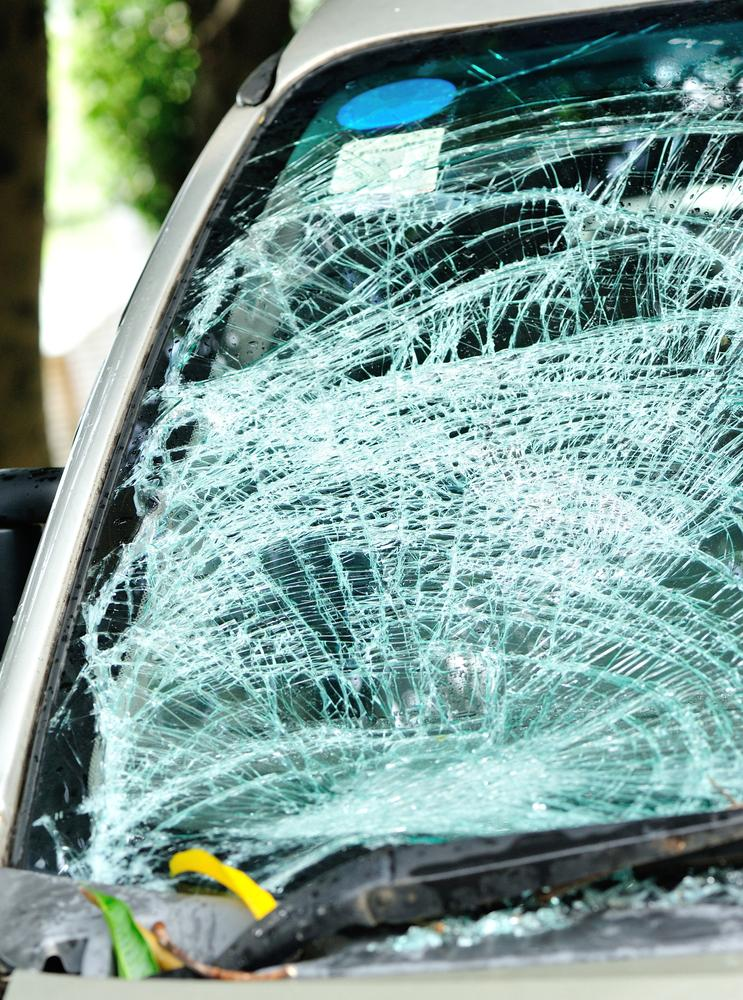glass shatter: (10, 0, 743, 895)
